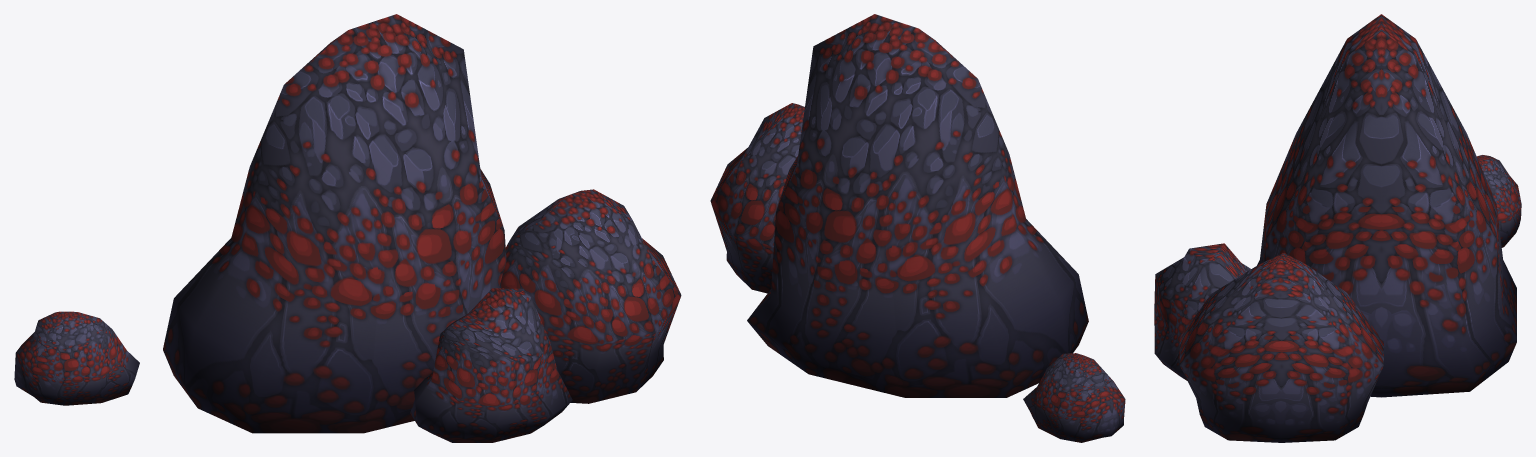
Rendered from Rock_03_Group1.FBX.
The picture shows the model from 3 angles, left to right: view 1: azimuth 30°, elevation 25°; view 2: azimuth 150°, elevation 25°; view 3: azimuth 270°, elevation 25°; orthographic projection. The views are drawn at different scales.
Parts seen in each view (by area): view 1: Rock_03_Group1; view 2: Rock_03_Group1; view 3: Rock_03_Group1.
Part boxes in pixels (x1,y1,x2,y2): Rock_03_Group1: (14,14,681,442); Rock_03_Group1: (710,14,1125,442); Rock_03_Group1: (1154,14,1521,442).
Size of the model in its own units: 476 by 294 by 299.
